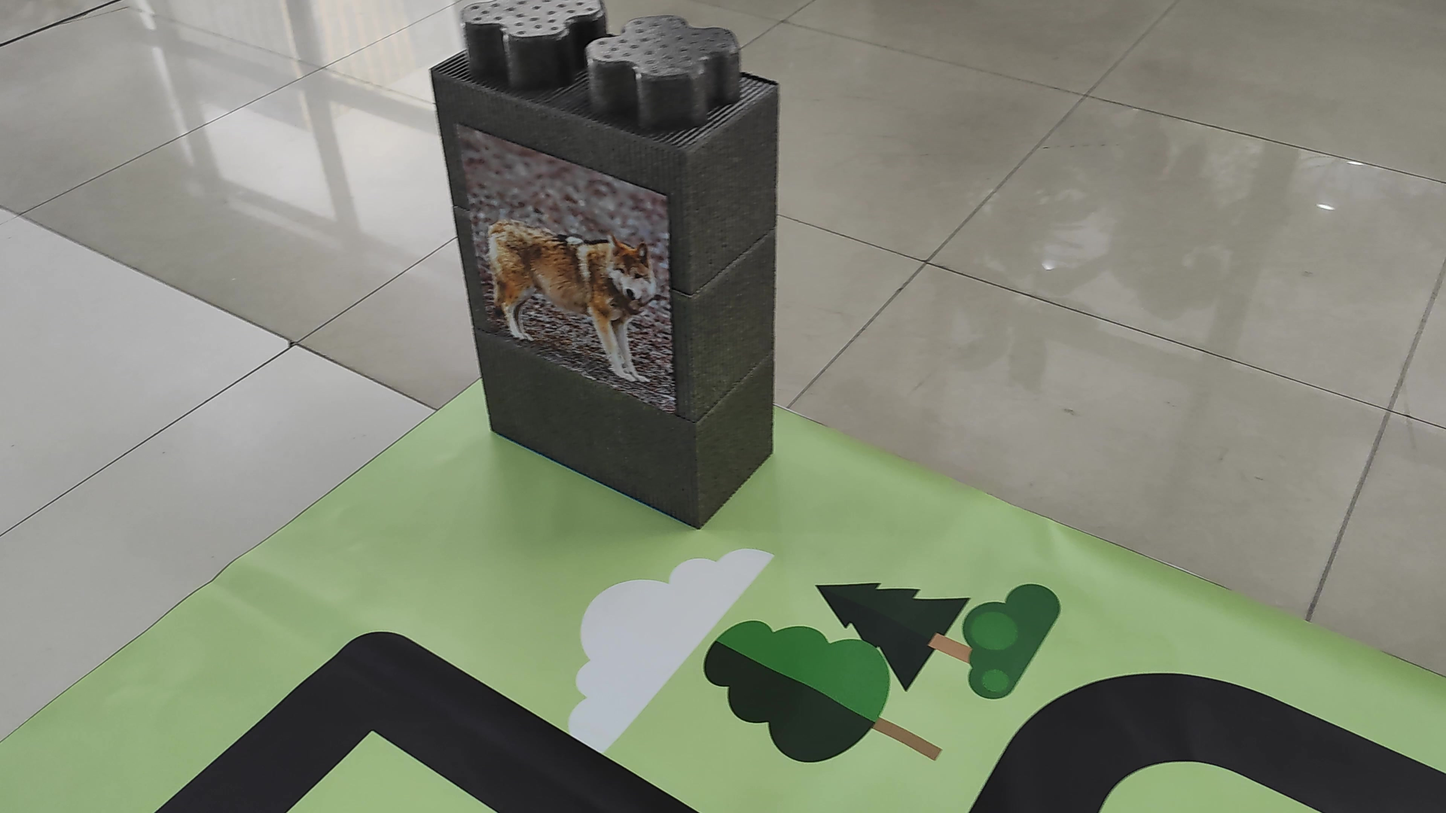wolf: (458, 128, 655, 391)
